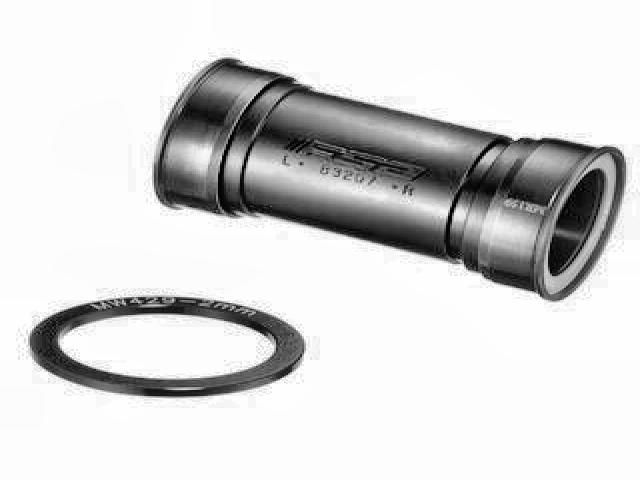bottom_bracket: (150, 55, 629, 307)
